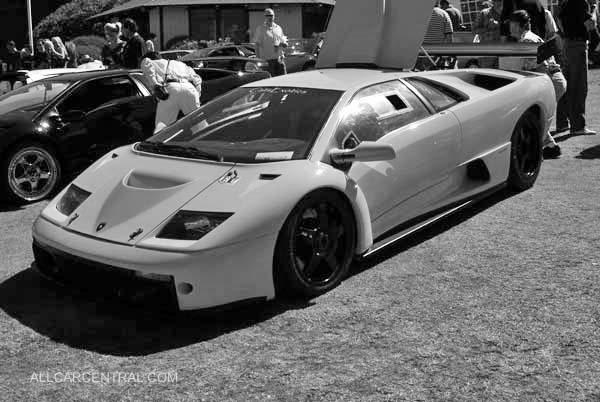car: (28, 63, 560, 321)
